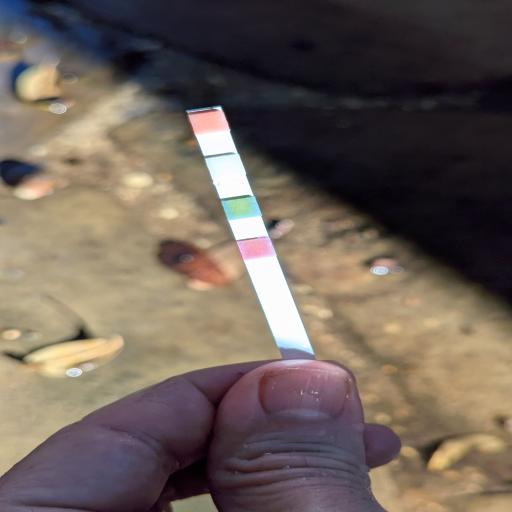strip: (186, 106, 318, 360)
